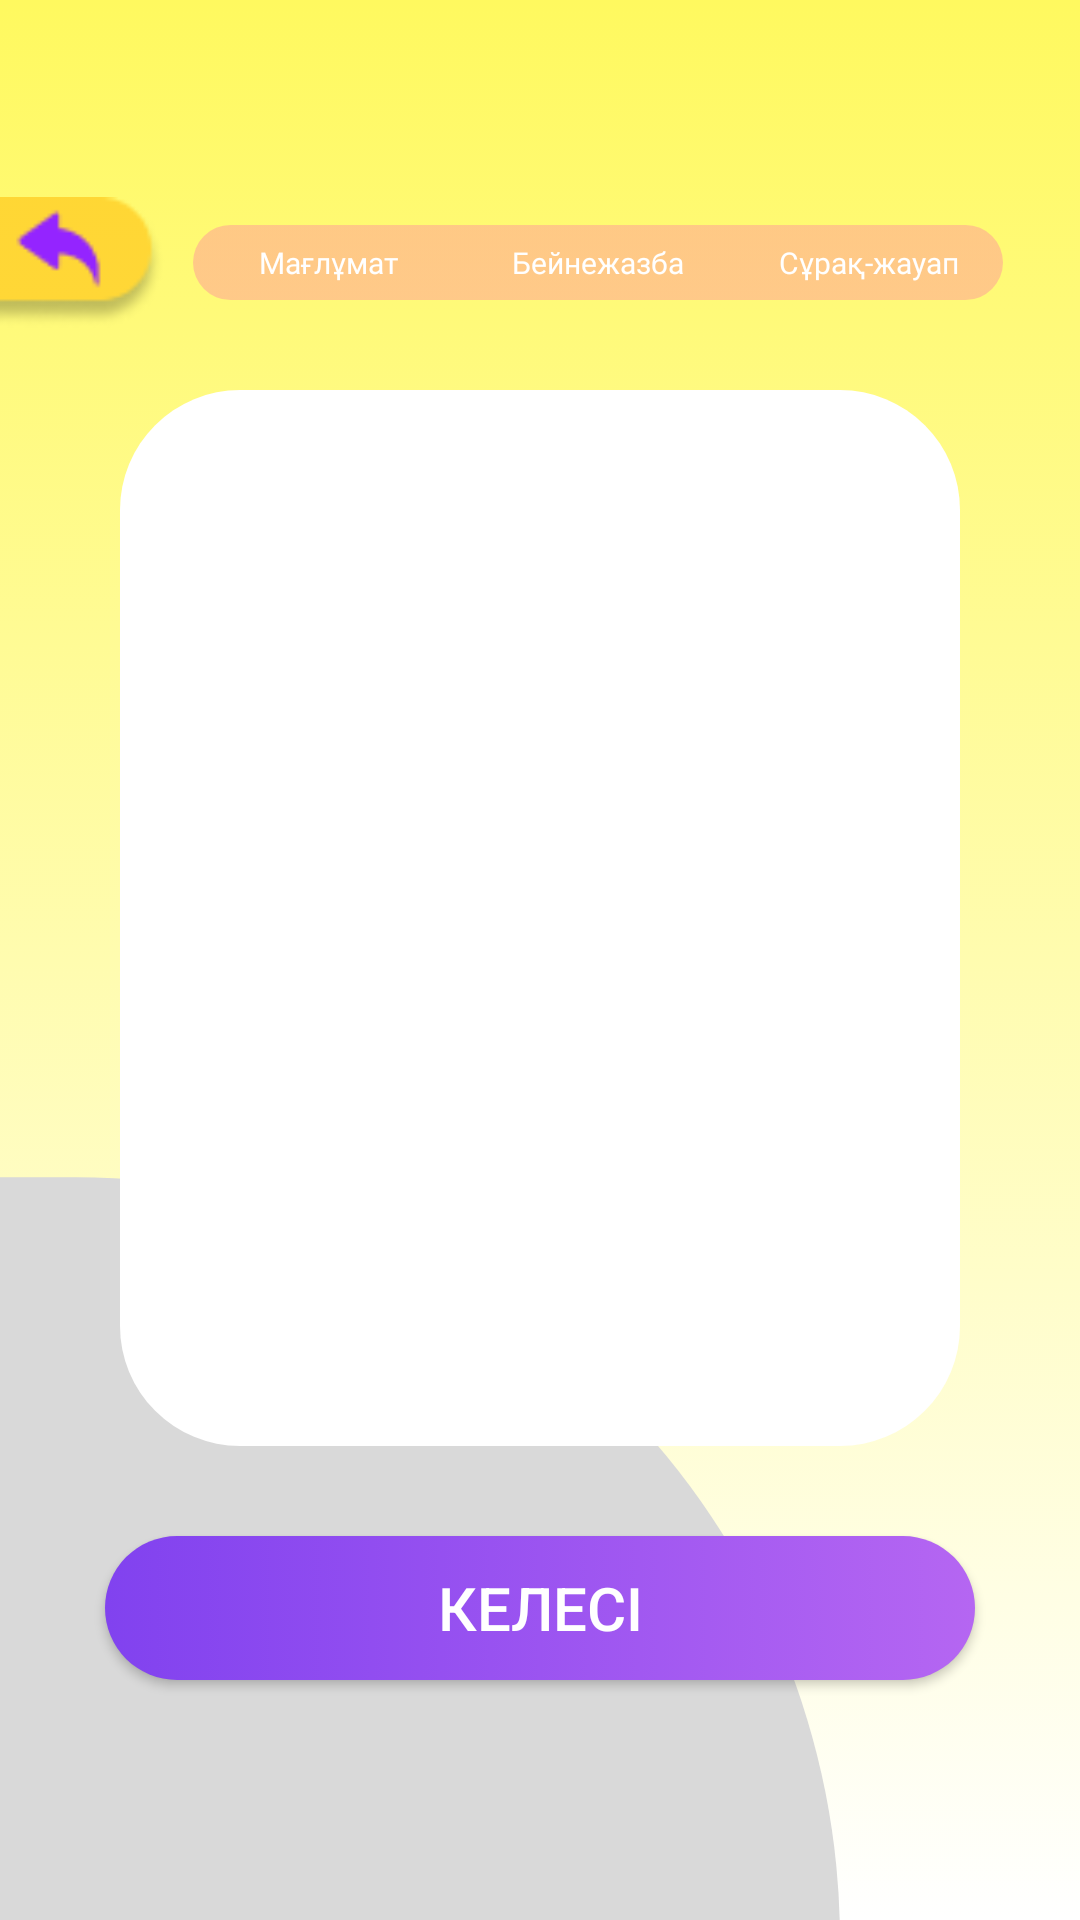

Where to tap for icons on this 1080px×1920px app screen, as (x=x, y=y):
back: (x=76, y=256)
